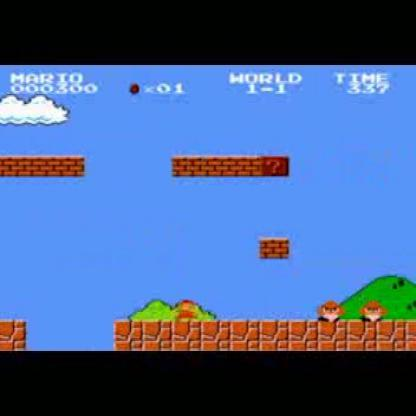Goomba: (319, 296, 347, 322), (363, 299, 386, 323)
Hoyo: (20, 318, 120, 350)
